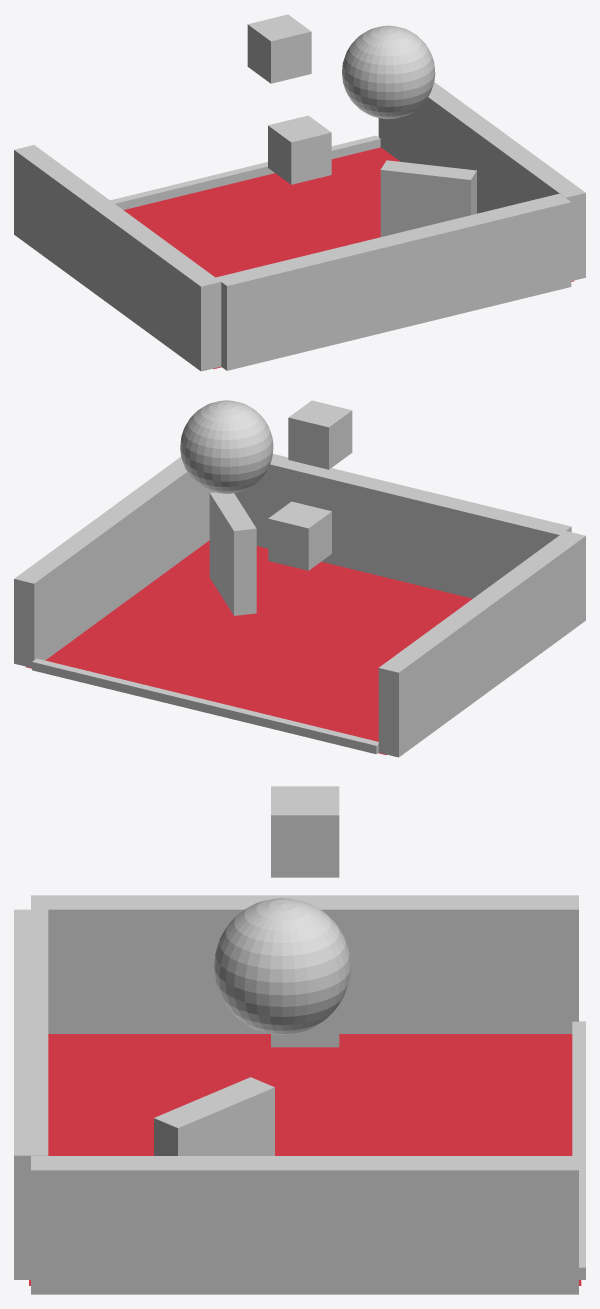
3 renders of one model, top to bottom at view 1: azimuth 30°, elevation 25°; view 2: azimuth 150°, elevation 25°; view 3: azimuth 270°, elevation 25°, orthographic. The views are drawn at different scales.
Parts seen in each view (by area): view 1: Wall.002, Wall.001, Plane, Wall, Sphere, Wall.003, Cube.001, Cube, Wall.004; view 2: Plane, Wall.002, Wall.001, Wall, Sphere, Wall.003, Wall.004, Cube.001, Cube; view 3: Wall, Wall.001, Plane, Sphere, Wall.002, Wall.003, Cube.001, Wall.004, Cube.
Boxes of the visible parts, <box> form: Wall.002: <box>216,193,571,370</box>; Wall.001: <box>14,145,221,371</box>; Plane: <box>124,147,574,369</box>; Wall: <box>378,82,585,280</box>; Sphere: <box>342,25,435,119</box>; Wall.003: <box>380,160,476,236</box>; Cube.001: <box>247,14,311,83</box>; Cube: <box>268,115,331,184</box>; Wall.004: <box>110,135,380,209</box>; Plane: <box>25,540,472,755</box>; Wall.002: <box>234,454,571,598</box>; Wall.001: <box>378,531,585,757</box>; Wall: <box>14,457,214,667</box>; Sphere: <box>180,400,273,493</box>; Wall.003: <box>209,492,256,615</box>; Wall.004: <box>32,658,378,754</box>; Cube.001: <box>288,400,352,469</box>; Cube: <box>268,501,331,570</box>; Wall: <box>31,1156,578,1294</box>; Wall.001: <box>31,895,578,1033</box>; Plane: <box>29,1034,581,1285</box>; Sphere: <box>214,898,350,1034</box>; Wall.002: <box>14,909,48,1279</box>; Wall.003: <box>154,1077,274,1155</box>; Cube.001: <box>271,786,339,877</box>; Wall.004: <box>572,1021,585,1279</box>; Cube: <box>271,1004,339,1047</box>.
Size of the model in its own units: 9.5 by 5.5 by 8.35.
